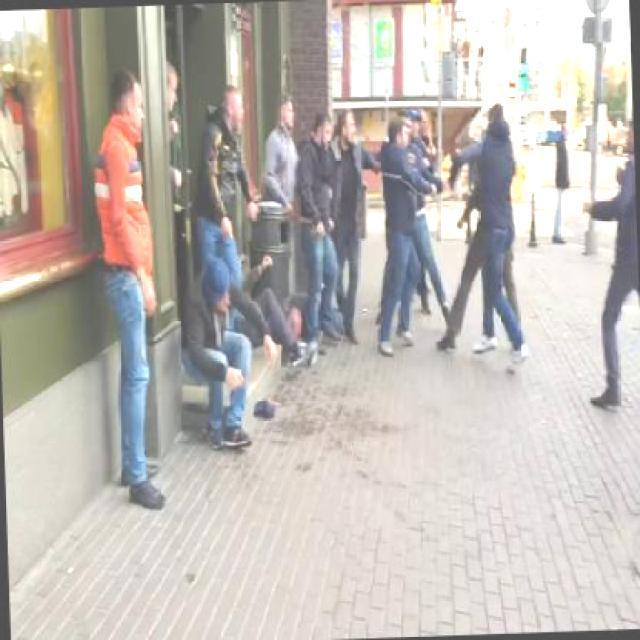fight: (376, 98, 522, 360)
non-fight: (94, 72, 166, 510), (180, 256, 280, 446), (202, 79, 261, 259), (301, 102, 344, 333), (264, 81, 304, 204), (548, 112, 574, 245)
